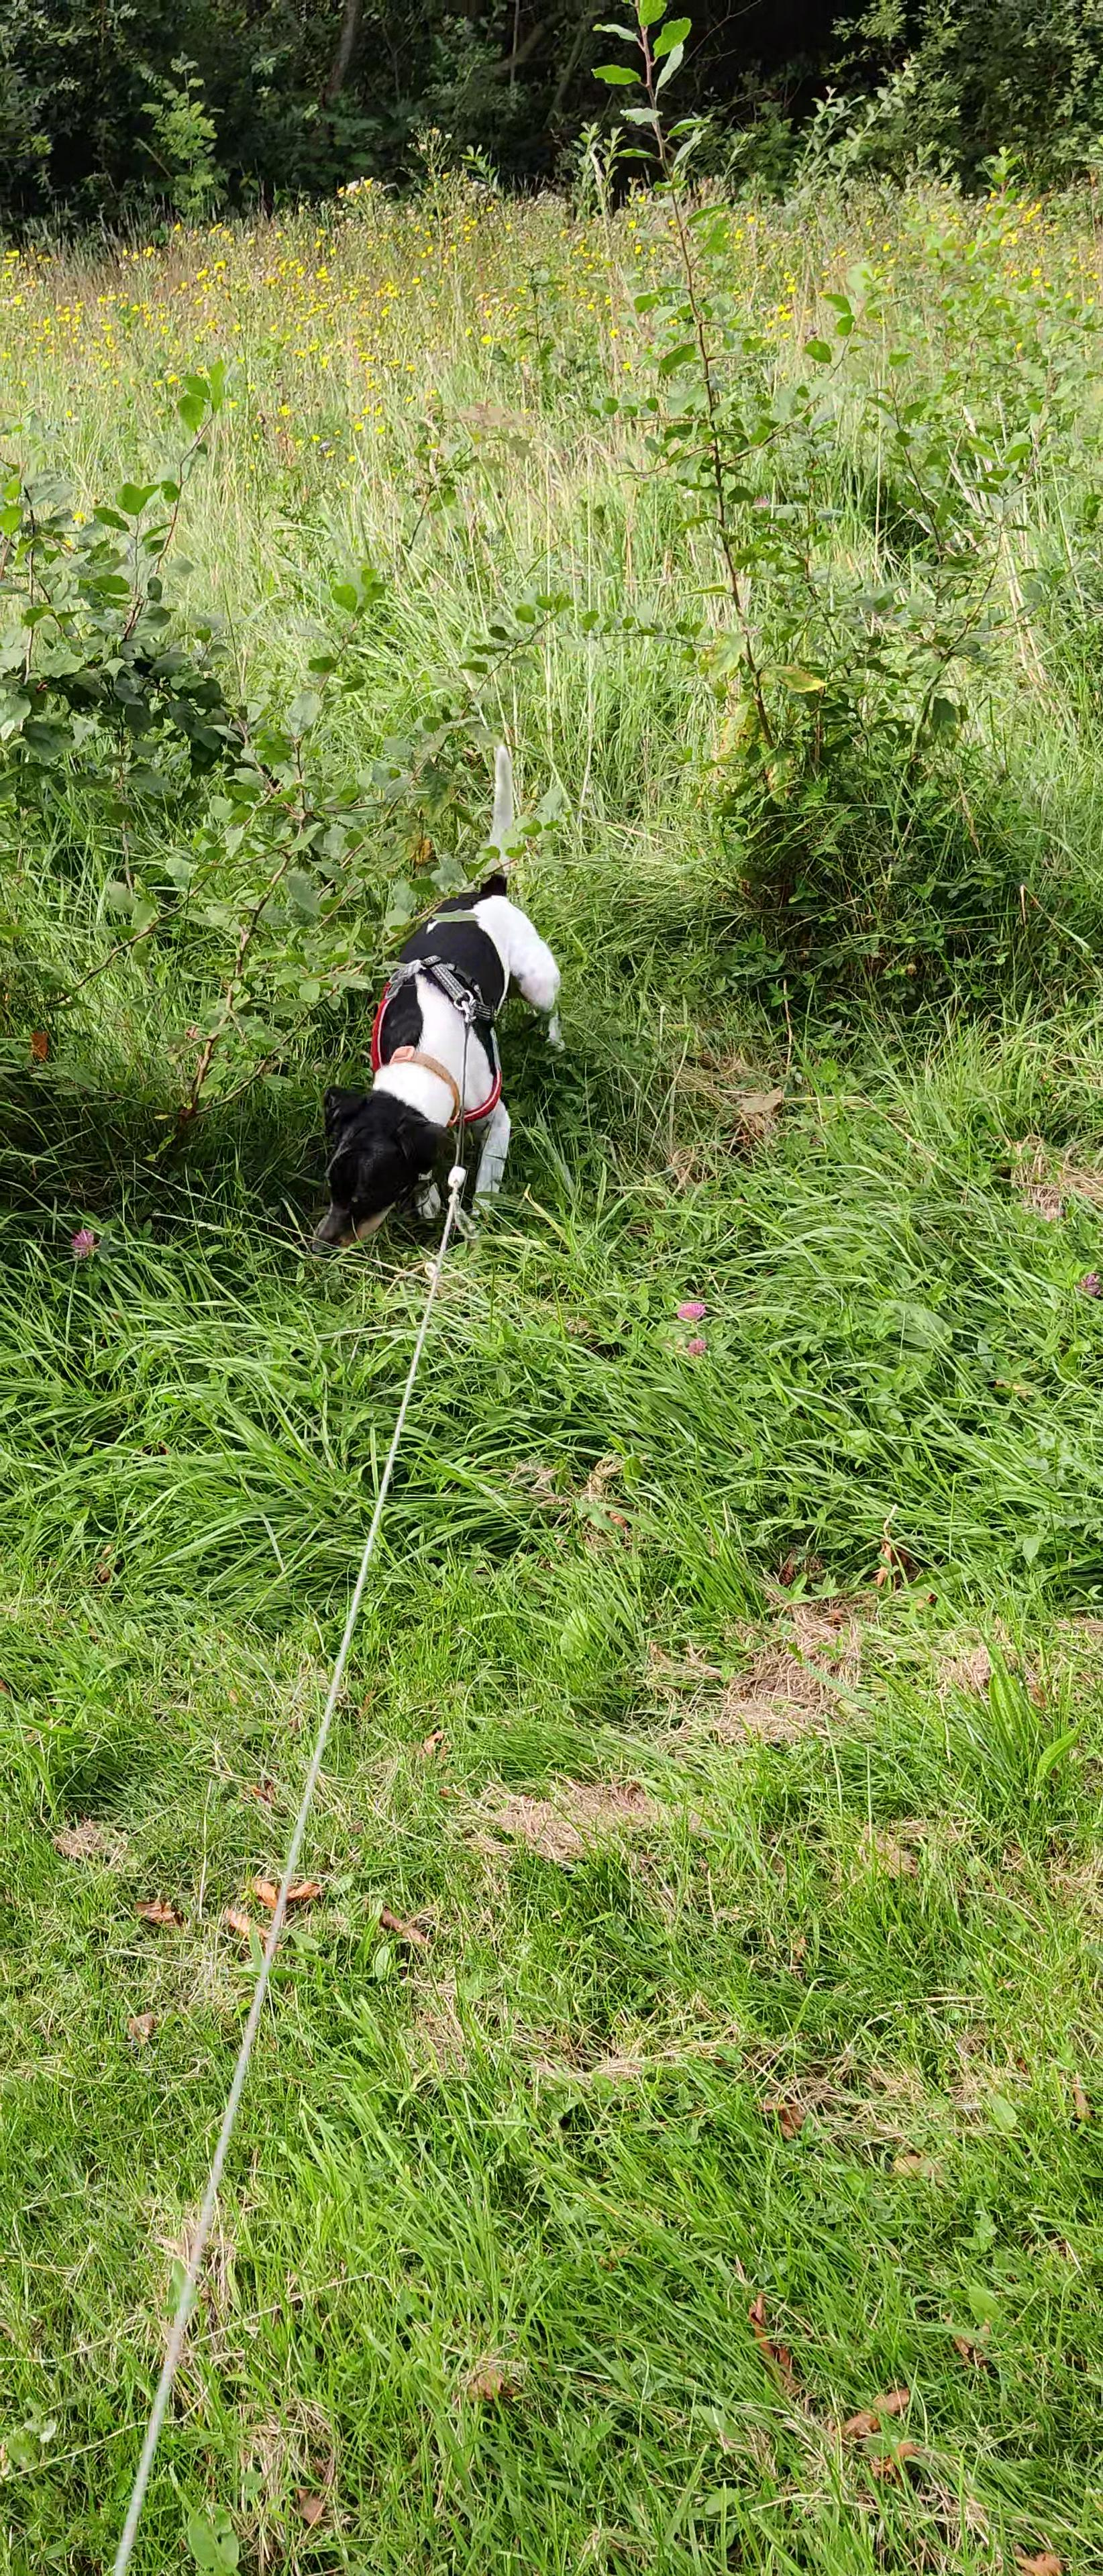Dog: (293, 731, 593, 1273)
